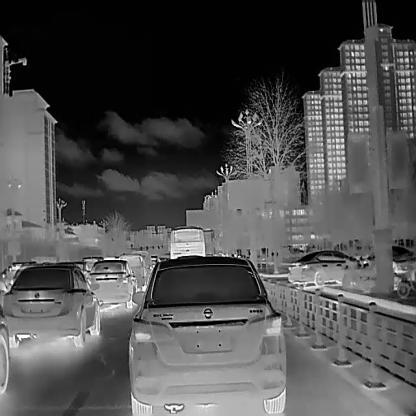car: (124, 252, 287, 415), (0, 262, 101, 347), (287, 248, 369, 284), (91, 259, 137, 309), (166, 222, 207, 261), (360, 241, 414, 264), (118, 253, 146, 291)
